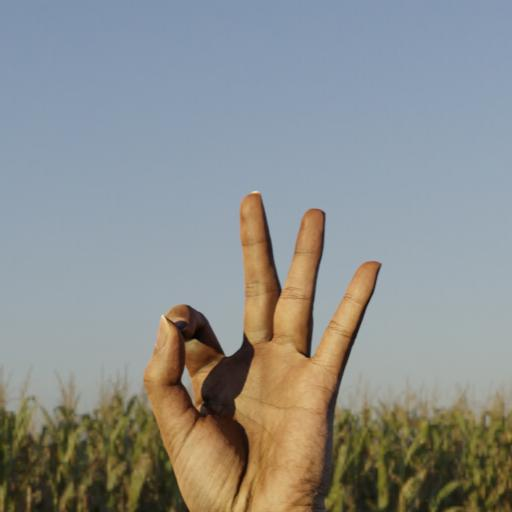F: (120, 174, 391, 512)
